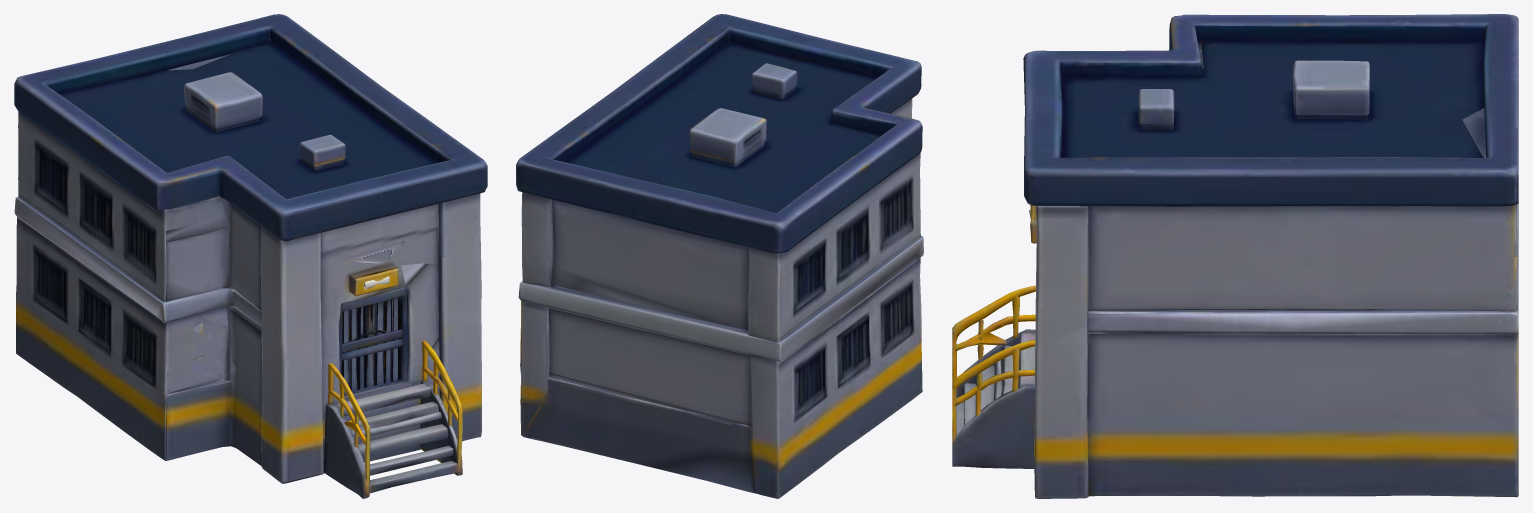
The model's file is corner-wing.glb.
The picture shows the model from 3 angles, left to right: view 1: azimuth 30°, elevation 25°; view 2: azimuth 150°, elevation 25°; view 3: azimuth 270°, elevation 25°; orthographic projection. The views are drawn at different scales.
Visible parts, largest first — view 1: meshy-corner-wing; view 2: meshy-corner-wing; view 3: meshy-corner-wing.
Part boxes in pixels (x1,y1,x2,y2): meshy-corner-wing: [14, 14, 487, 498]; meshy-corner-wing: [516, 14, 923, 498]; meshy-corner-wing: [952, 14, 1518, 498].
Bounding box in the file's own units: 7.84 × 8 × 11.77.
1 material, 1 textured.
